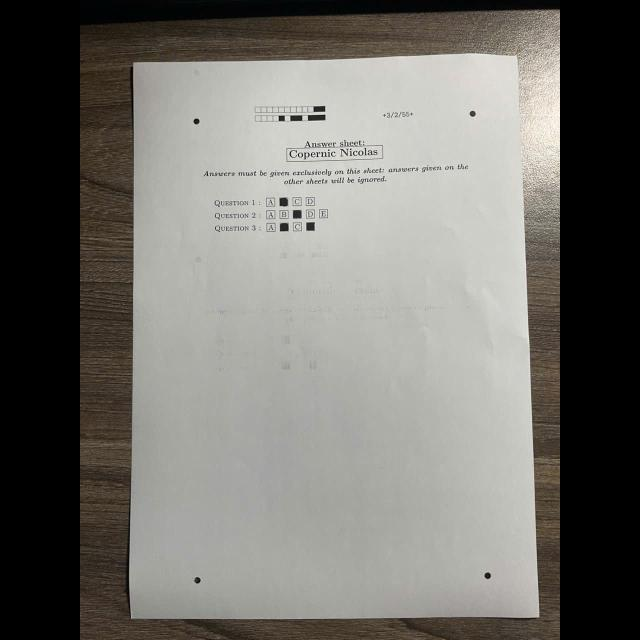Markers: (484, 572, 492, 580), (194, 576, 200, 584), (469, 111, 476, 117), (194, 119, 200, 125)
